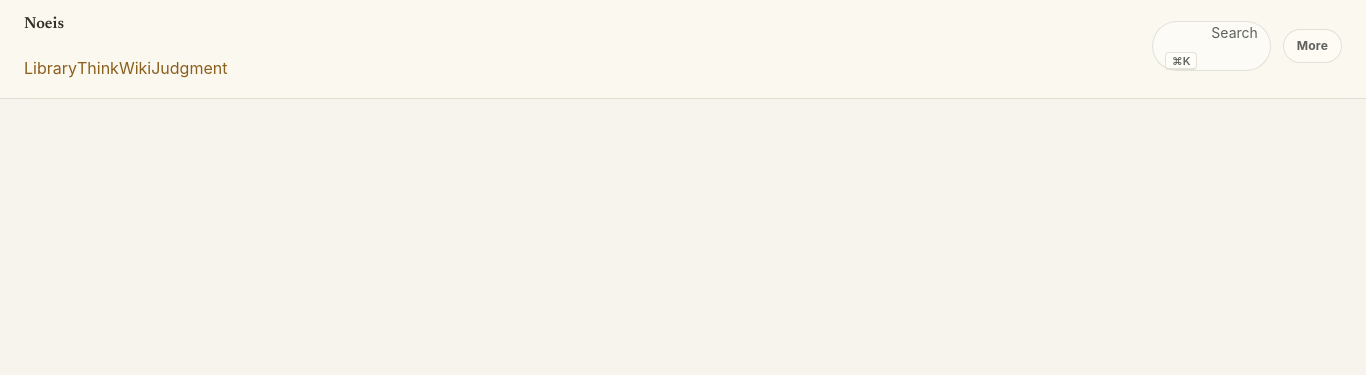
Test: TopBar help menu › keeps every room available in the mobile More copy
Click the button with test id "topbar-more-button" at (1312, 46), box [1283,29,1342,63]
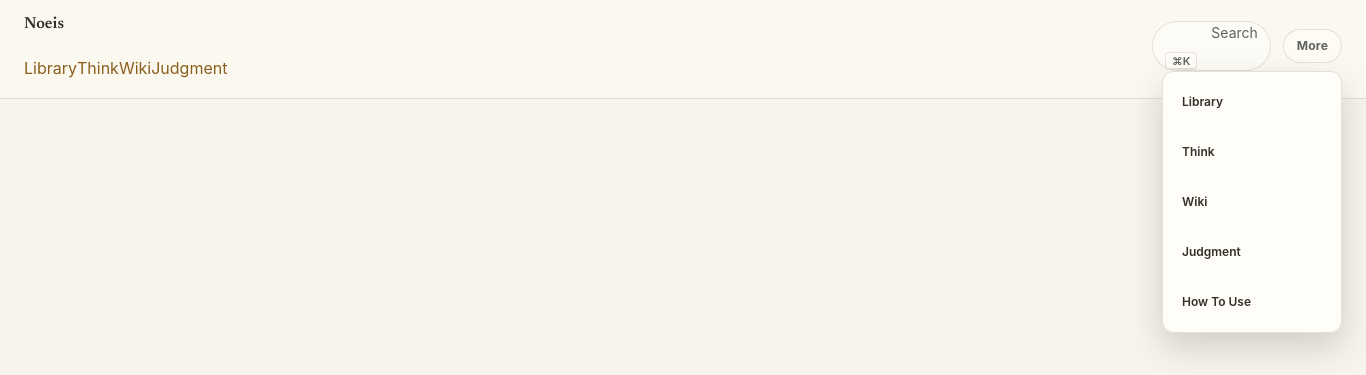
Check: the menu item "Wiki" is shown, box [1182,194,1207,209]
Check: the menu item "Judgment" is shown, box [1182,244,1241,259]
